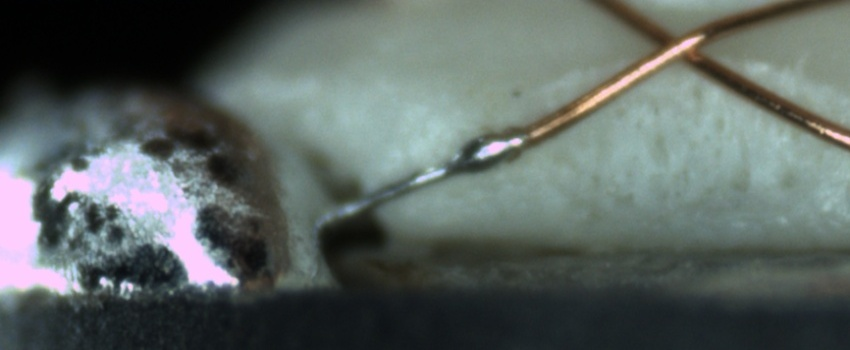CL: (627, 11, 726, 78)
TB: (452, 127, 520, 176)
TS: (330, 131, 526, 223)
TTCW: (318, 99, 577, 227)
